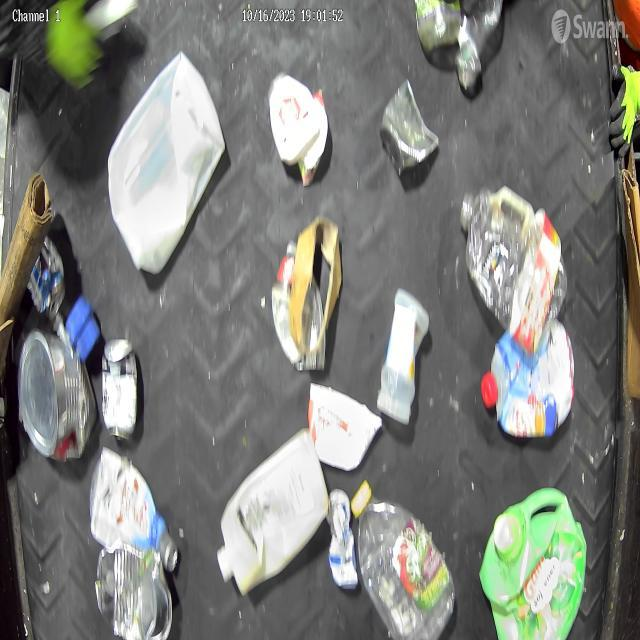can: (19, 325, 97, 462), (94, 540, 176, 640), (380, 80, 440, 175), (100, 336, 140, 438), (326, 492, 358, 592), (28, 238, 66, 320)
milk_jug: (106, 52, 229, 274), (216, 428, 329, 596)
non_white_jug: (458, 186, 568, 346), (480, 487, 588, 640), (482, 318, 576, 440), (89, 448, 179, 572)
plastic_bottle: (350, 480, 456, 640)
